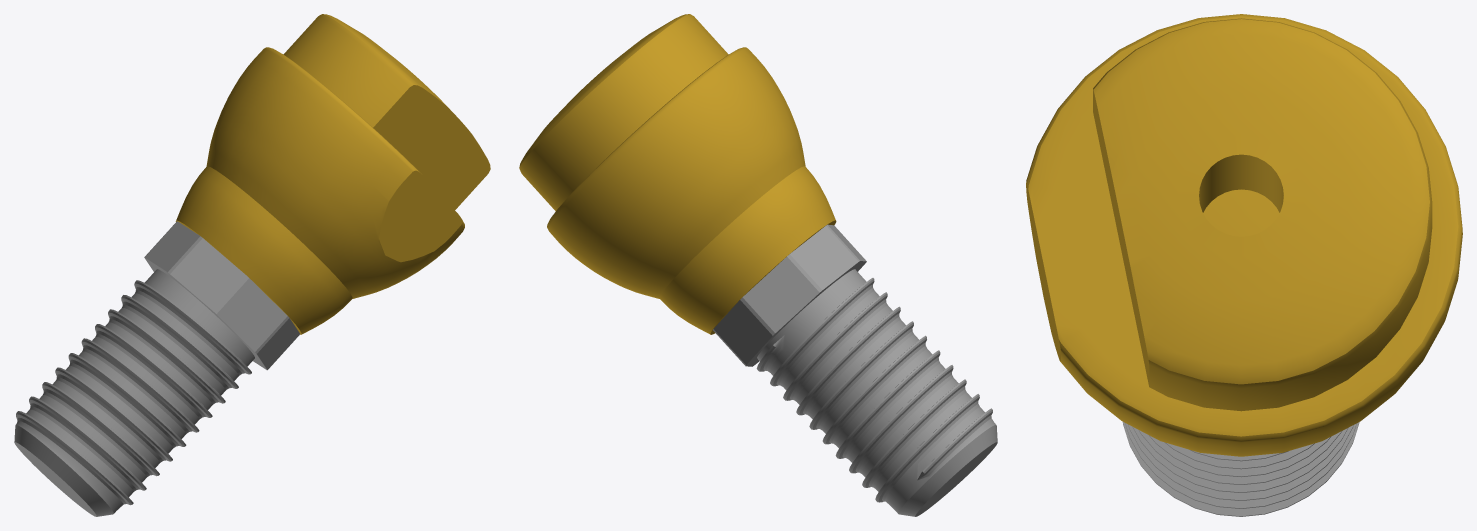
File: HealingAbutmentMolar.fbx
3 views of the same model, side by side, from view 1: azimuth 30°, elevation 25°; view 2: azimuth 150°, elevation 25°; view 3: azimuth 270°, elevation 25° (orthographic). The views are drawn at different scales.
Parts seen in each view (by area): view 1: ToolHealingAbutmentMolar; view 2: ToolHealingAbutmentMolar; view 3: ToolHealingAbutmentMolar.
Part boxes in pixels (left/top/right/bottom): ToolHealingAbutmentMolar: left=14, top=14, right=490, bottom=516; ToolHealingAbutmentMolar: left=519, top=14, right=997, bottom=516; ToolHealingAbutmentMolar: left=1026, top=14, right=1462, bottom=516.
Size of the model in its own units: 0.3393 by 0.3069 by 0.1766.
